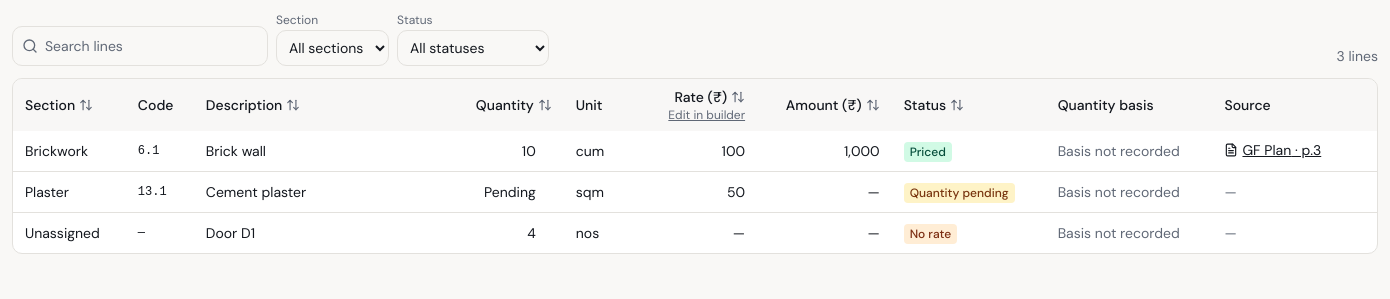
Test: BoqTable — inline editing › rejects invalid input without saving
Click the button named "Edit Quantity for Brick wall" at [511, 151], box [466,139,556,163]
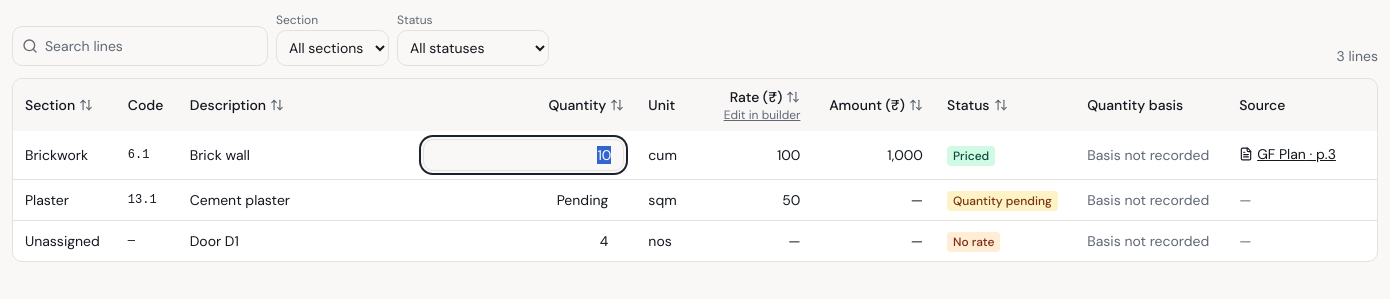
Replace the text in the field named "Quantity for Brick wall" with "-3" at [524, 155], box [423,139,624,171]
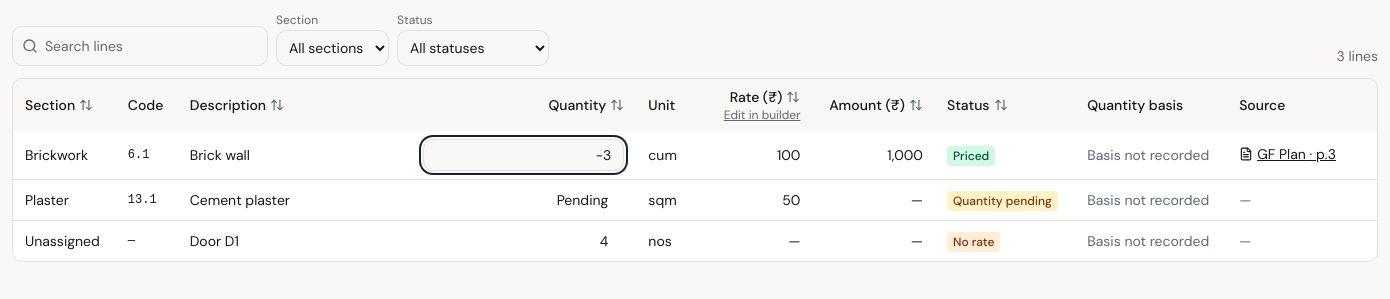
Press Enter in the field named "Quantity for Brick wall", box [423,139,624,171]
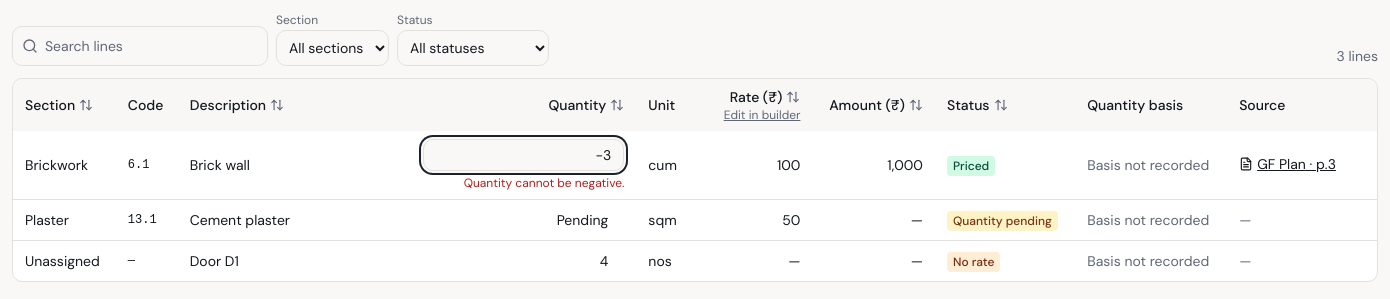
expect the message reads "Quantity cannot be negative.": met, box [464,175,624,191]
